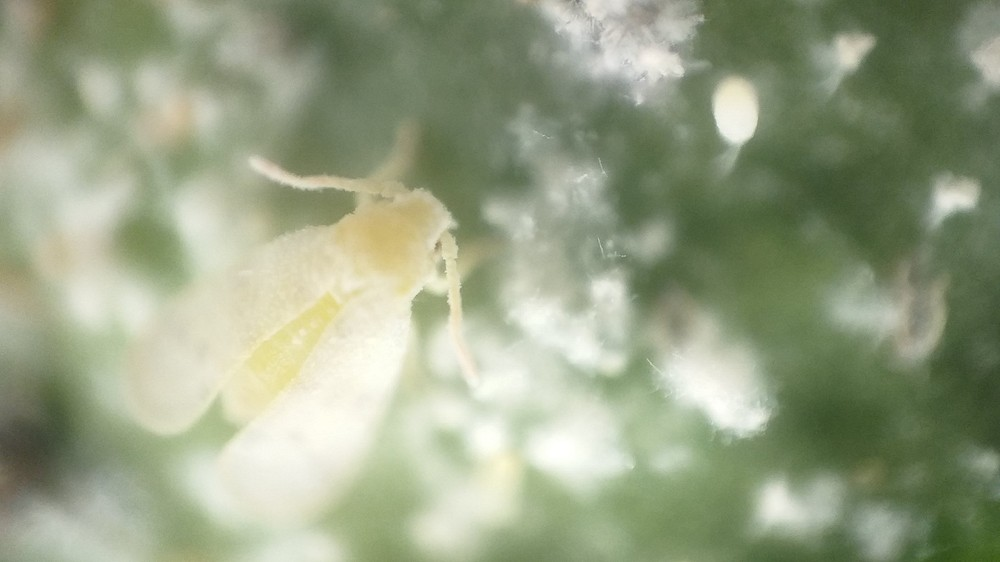Mosca Blanca: (113, 144, 509, 529)
